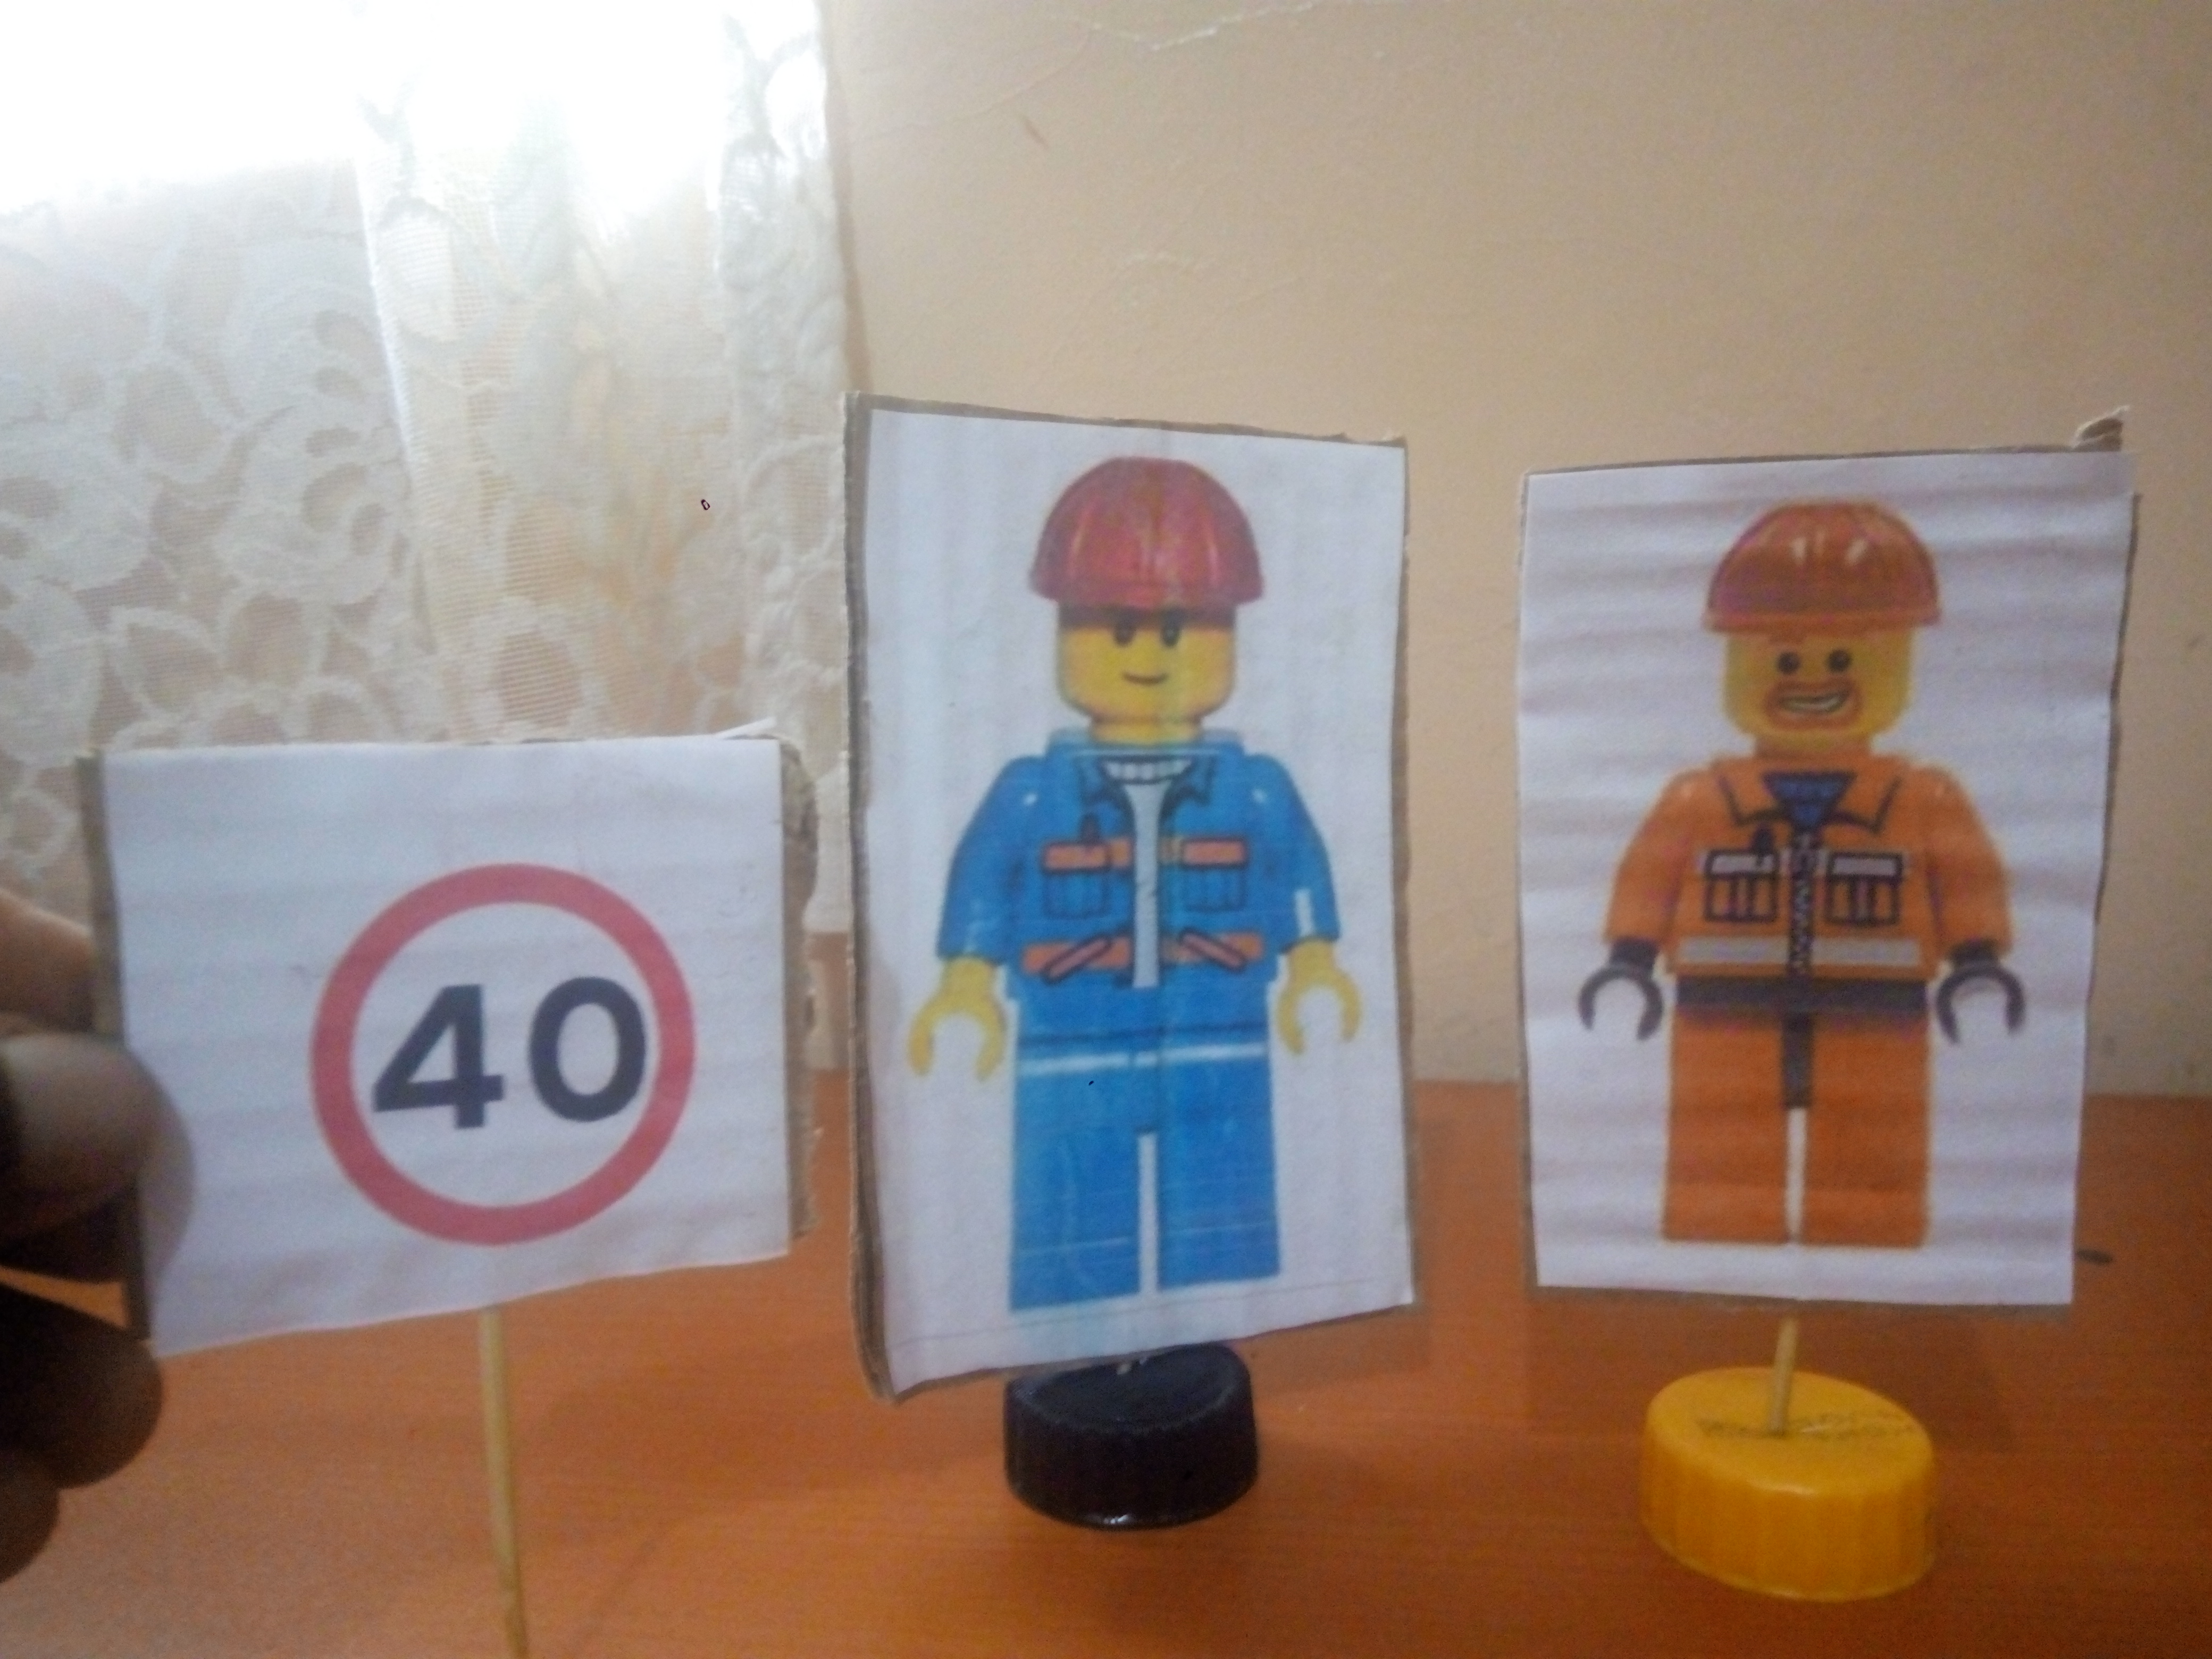40 kph: (242, 804, 723, 1260)
pedestrian: (918, 426, 1371, 1297), (1569, 487, 2060, 1267)
